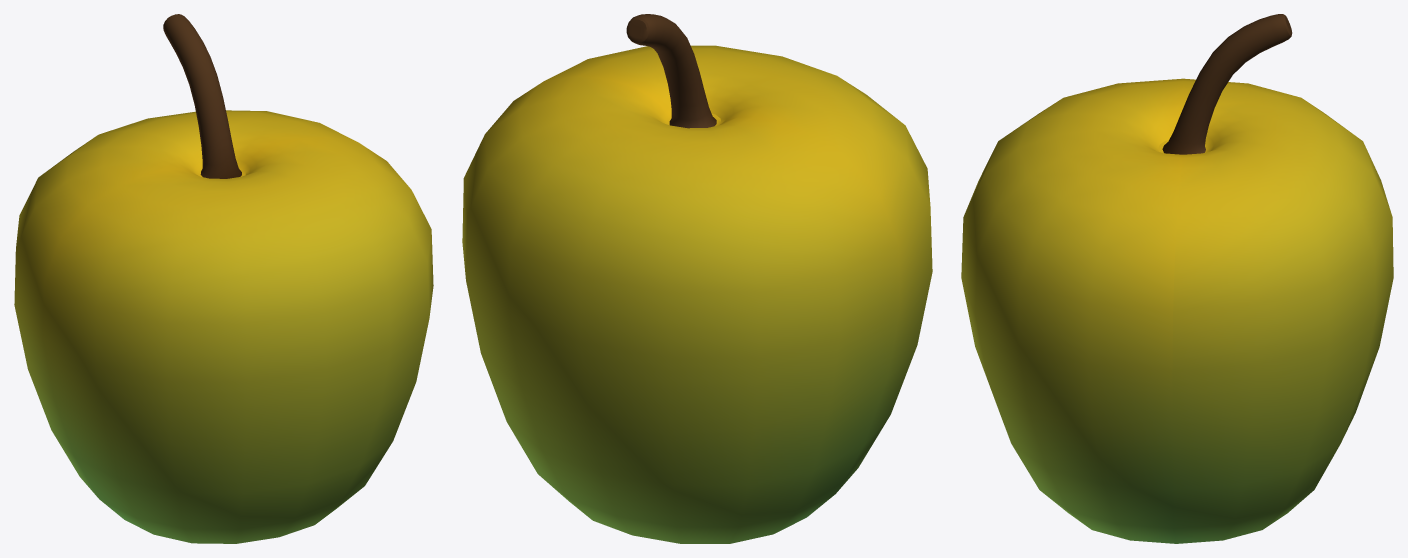
The model's file is 3D_Items_Apple.fbx.
The picture shows the model from 3 angles, left to right: view 1: azimuth 30°, elevation 25°; view 2: azimuth 150°, elevation 25°; view 3: azimuth 270°, elevation 25°; orthographic projection. The views are drawn at different scales.
Visible parts, largest first — view 1: 3D_Items_Apple; view 2: 3D_Items_Apple; view 3: 3D_Items_Apple.
Boxes of the visible parts, left/top/right/bottom form: 3D_Items_Apple: left=14, top=14, right=433, bottom=543; 3D_Items_Apple: left=462, top=14, right=932, bottom=543; 3D_Items_Apple: left=961, top=14, right=1393, bottom=543.
Size of the model in its own units: 72.61 by 88.23 by 70.95.
